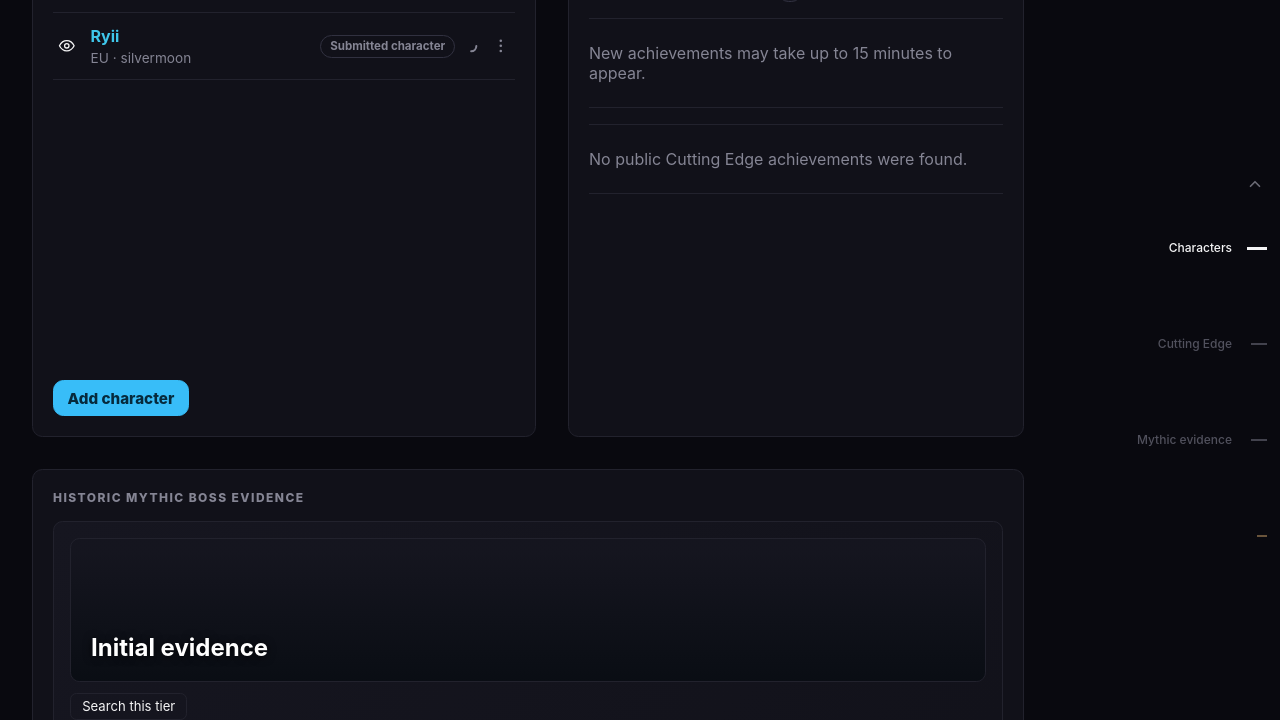
Test: DossierPageClient live evidence › keeps an open character dialog and its draft while evidence refreshes
(page scrolled)
Click the button "Add character" at (121, 398), box [53, 380, 189, 416]
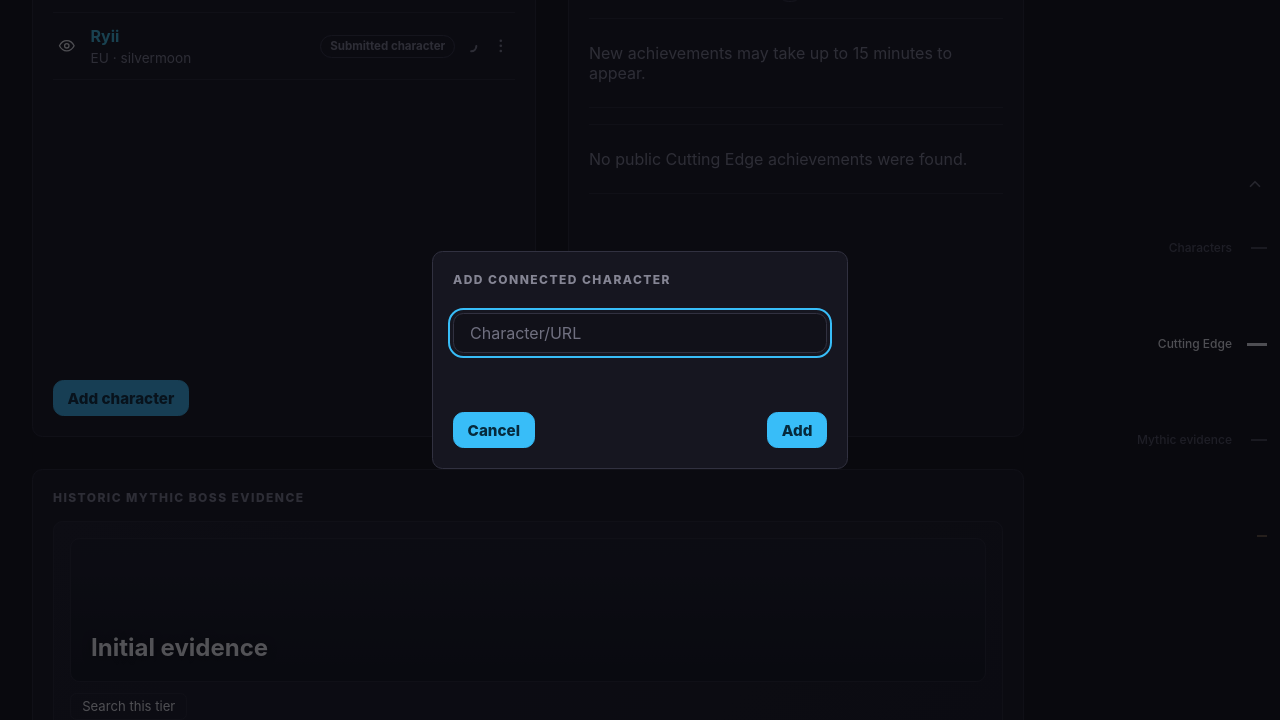
Type "Ryalts" into the field labelled "Character/URL" at (640, 332), box [453, 312, 827, 352]
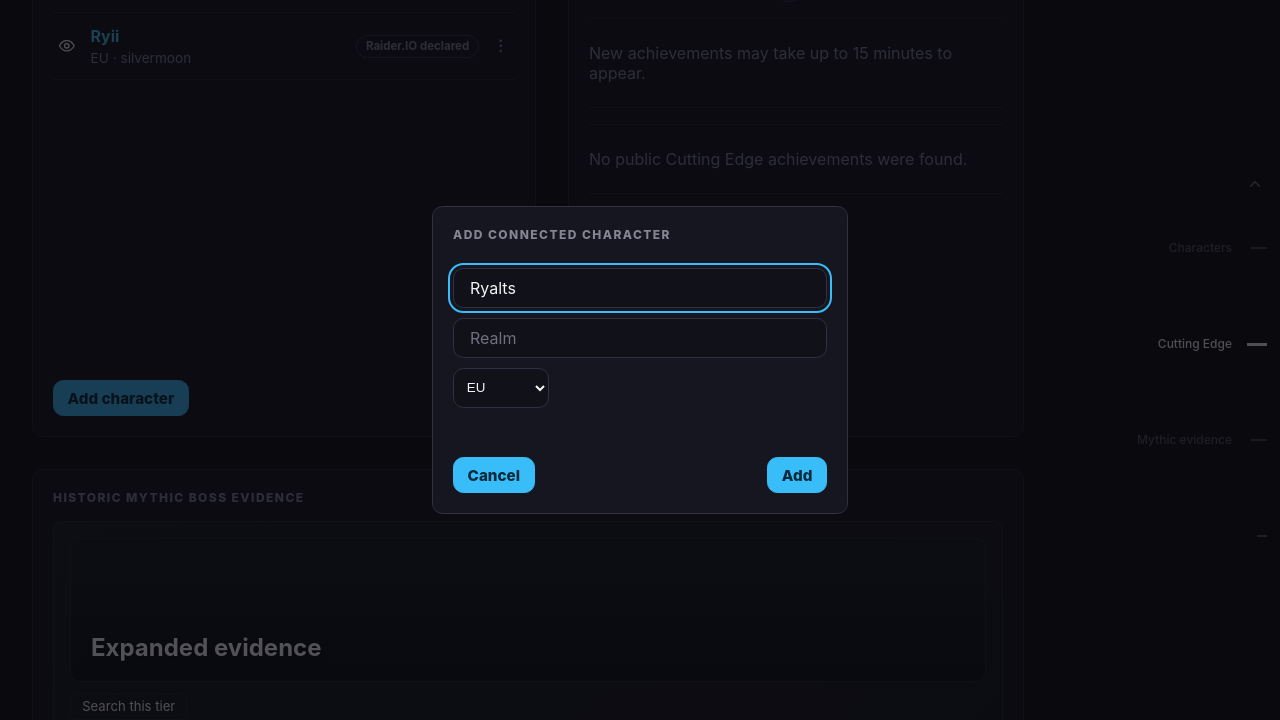
Expected: the text "Expanded evidence" is shown, [91, 633, 322, 662]
